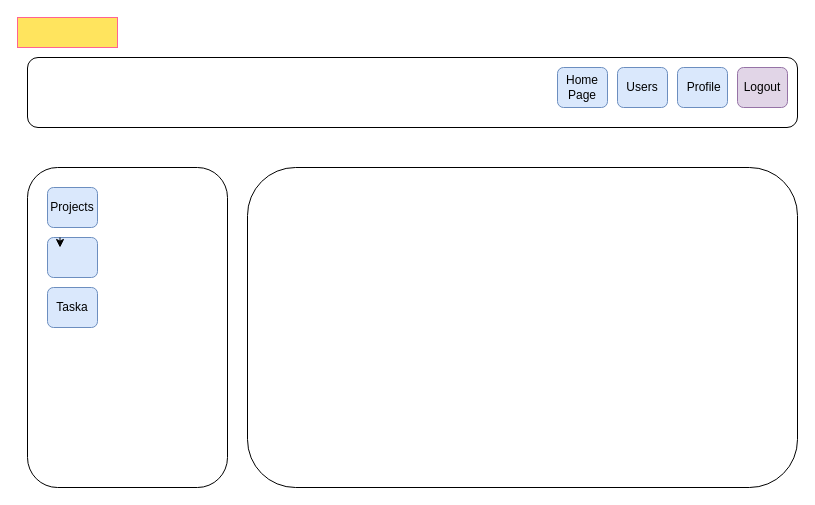
Image size: 815x505. Some labels were removed from this diagram. Here are the shapes that lost their labels. From the top down, the centre of each, then its label:
the point at 67,32: Main page
the point at 72,257: Sprints
the point at 522,327: img + info
